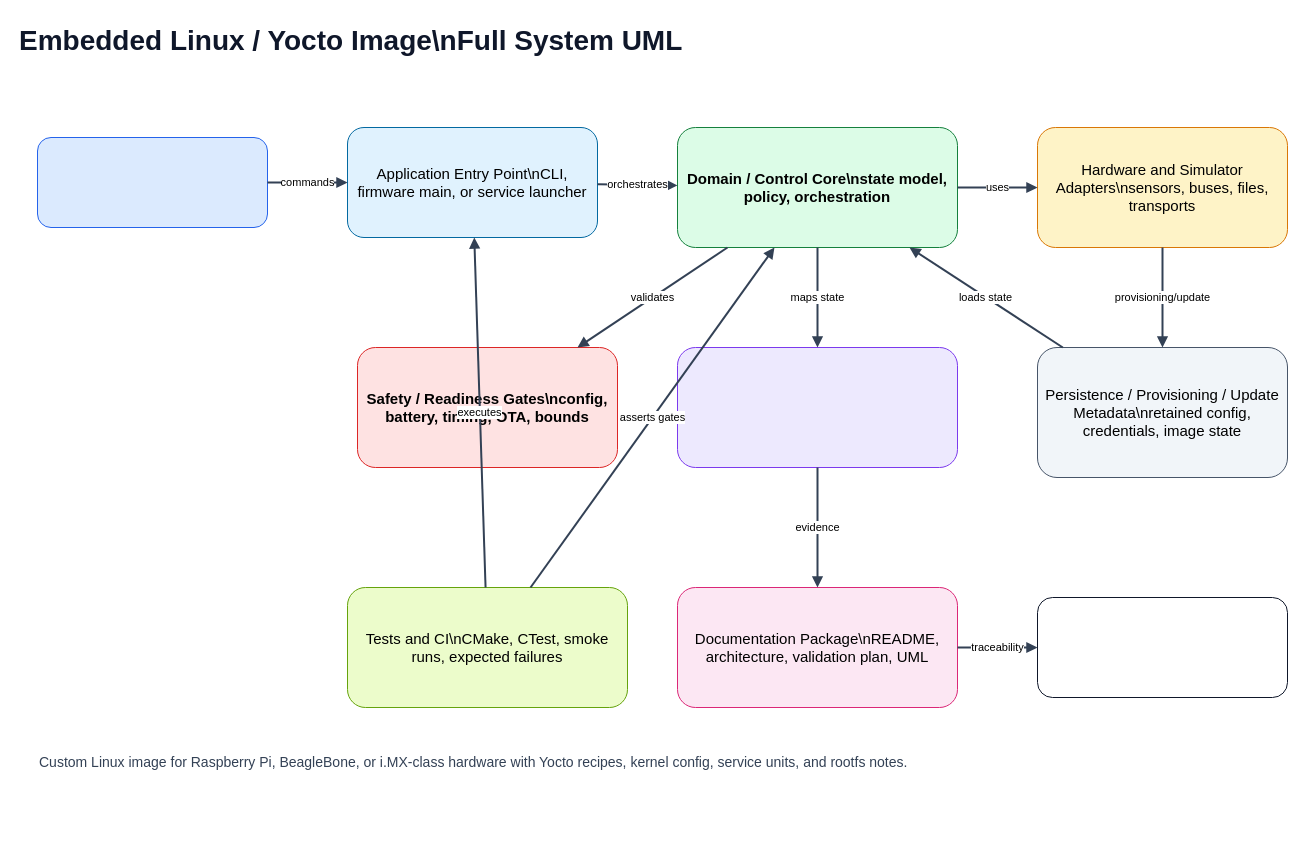
The diagram is 1305 pixels wide and 844 high, and some of its shapes have lost their labels. Here are the shapes that lost their labels. From the top down, the centre of each, then its label:
At pixel 152 182: "Operator / Cloud / Test Harness".
At pixel 817 407: "Telemetry and Evidence\nJSON, reports, logs, measurements".
At pixel 1162 647: "Target Stack\nC++17, C++ Design Patterns, SOLID, Yocto, BitBake, Kernel config".
